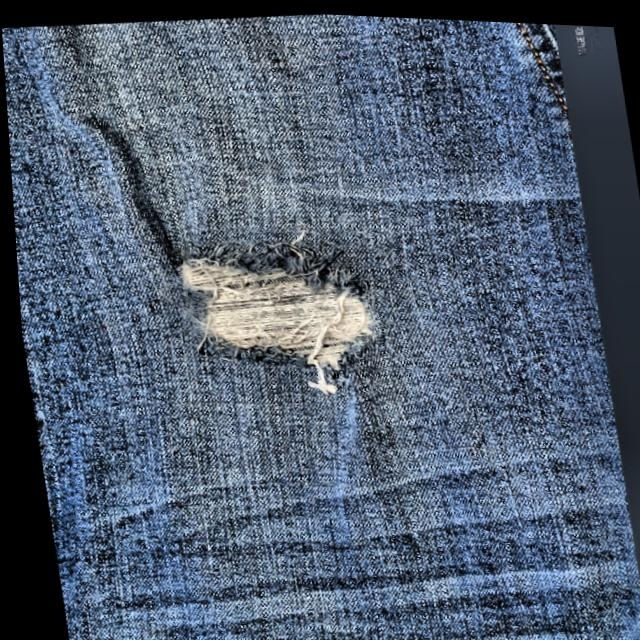Hole: (131, 206, 413, 419)
